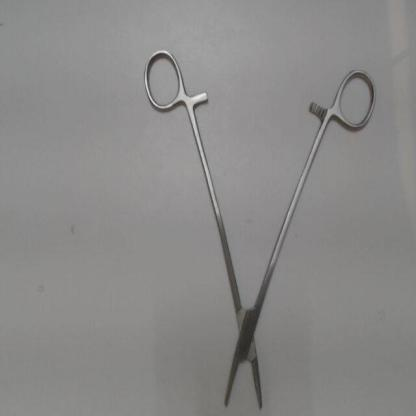8 Mayo Needle Holder: (136, 38, 386, 414)
